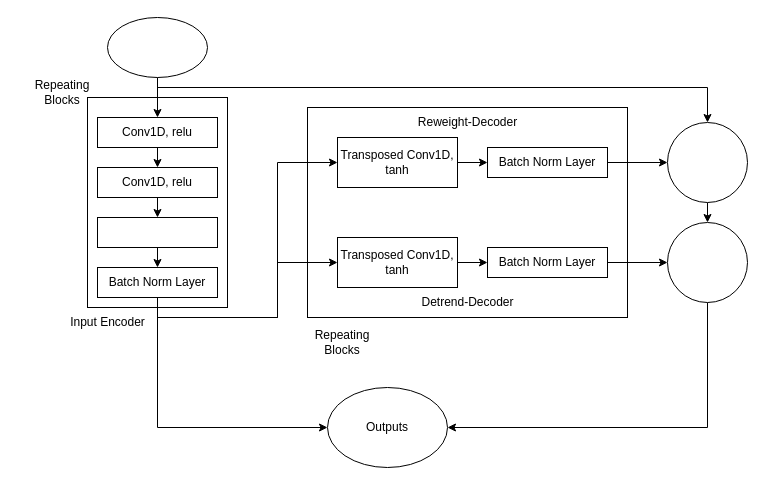
This 765x485 diagram has some shape labels left out. Each missing label, with the box of its shape:
Element Addition: (666, 222, 748, 302)
Element multiplication: (666, 122, 748, 202)
Input: (106, 16, 208, 78)
Max Pooling Layer: (96, 216, 218, 248)
